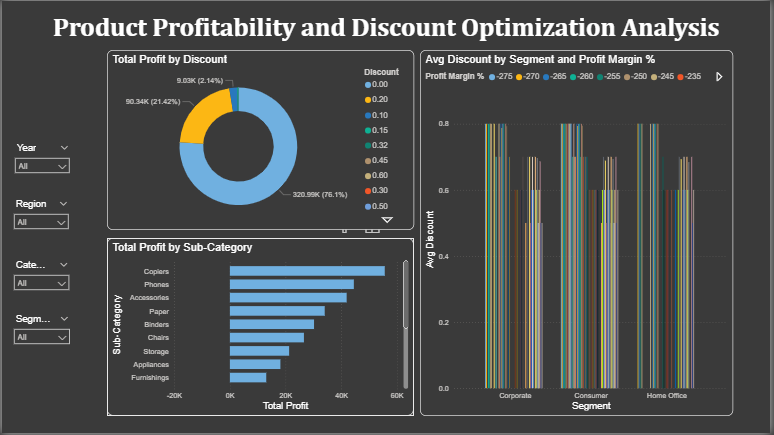

The dashboard page shown, as its layout file describes it:
{"tool":"powerbi","page":{"name":"Page 2","canvas":[1280,720],"ordinal":1},"visuals":[{"type":"clusteredBarChart","fields":{"Category":["superstore_clean.Sub-Category"],"Y":["superstore_clean.Total Profit"]},"box":[175,395,511.2,296.2],"z":0},{"type":"donutChart","fields":{"Category":["superstore_clean.Discount"],"Y":["superstore_clean.Total Profit"]},"box":[174.6,82.1,511.9,300],"z":1000},{"type":"lineClusteredColumnComboChart","fields":{"Category":["superstore_clean.Segment"],"Series":["superstore_clean.Profit Margin %"],"Y":["superstore_clean.Avg Discount"]},"box":[696.7,81.7,521.7,610],"z":2000},{"type":"textbox","box":[0,11.5,1280.3,68.9],"z":3000},{"type":"slicer","fields":{"Values":["superstore_clean.Order Date.Variation.Date Hierarchy.Year"]},"box":[11.5,231.1,111.5,70.5],"z":4000},{"type":"slicer","fields":{"Values":["superstore_clean.Category"]},"box":[10,426.7,112.2,68.9],"z":5000},{"type":"slicer","fields":{"Values":["superstore_clean.Region"]},"box":[9.8,324.6,111.5,82],"z":6000},{"type":"slicer","fields":{"Values":["superstore_clean.Segment"]},"box":[9.8,516.4,113.1,114.8],"z":7000}]}

Visuals, with their boxes in screenshot pixels (x1, y1, x2, y2), scaled from the page's 1280x720 canvas onto the 774x435 screenshot:
clusteredBarChart - superstore_clean.Sub-Category x superstore_clean.Total Profit: (left=106, top=239, right=415, bottom=418)
donutChart - superstore_clean.Discount x superstore_clean.Total Profit: (left=106, top=50, right=415, bottom=231)
lineClusteredColumnComboChart - superstore_clean.Segment x superstore_clean.Profit Margin %: (left=421, top=49, right=737, bottom=418)
textbox: (left=0, top=7, right=773, bottom=49)
slicer - superstore_clean.Order Date.Variation.Date Hierarchy.Year: (left=7, top=140, right=74, bottom=182)
slicer - superstore_clean.Category: (left=6, top=258, right=74, bottom=299)
slicer - superstore_clean.Region: (left=6, top=196, right=73, bottom=246)
slicer - superstore_clean.Segment: (left=6, top=312, right=74, bottom=381)
